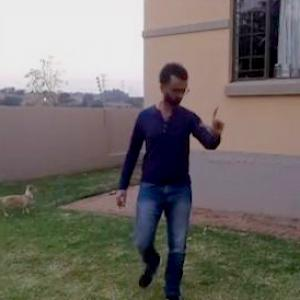land_hand: (198, 97, 233, 136)
